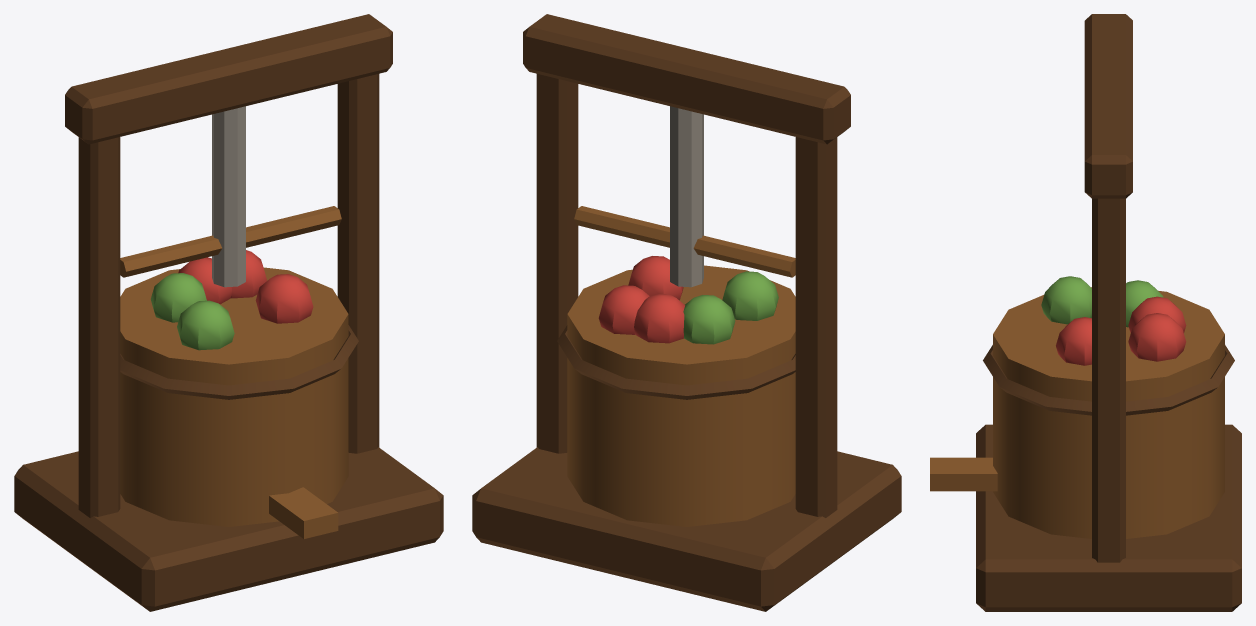
File: PR_Station_Pres_T1.fbx
The picture shows the model from 3 angles, left to right: view 1: azimuth 30°, elevation 25°; view 2: azimuth 150°, elevation 25°; view 3: azimuth 270°, elevation 25°; orthographic projection. The views are drawn at different scales.
Visible parts, largest first — view 1: PR_Station_Pres_T1; view 2: PR_Station_Pres_T1; view 3: PR_Station_Pres_T1.
Part boxes in pixels (bbox=[...]): PR_Station_Pres_T1: bbox=[14, 14, 443, 611]; PR_Station_Pres_T1: bbox=[472, 14, 901, 611]; PR_Station_Pres_T1: bbox=[930, 14, 1241, 611].
Size of the model in its own units: 0.72 by 1.05 by 0.645.
Materials: 1 (1 with a texture image).
